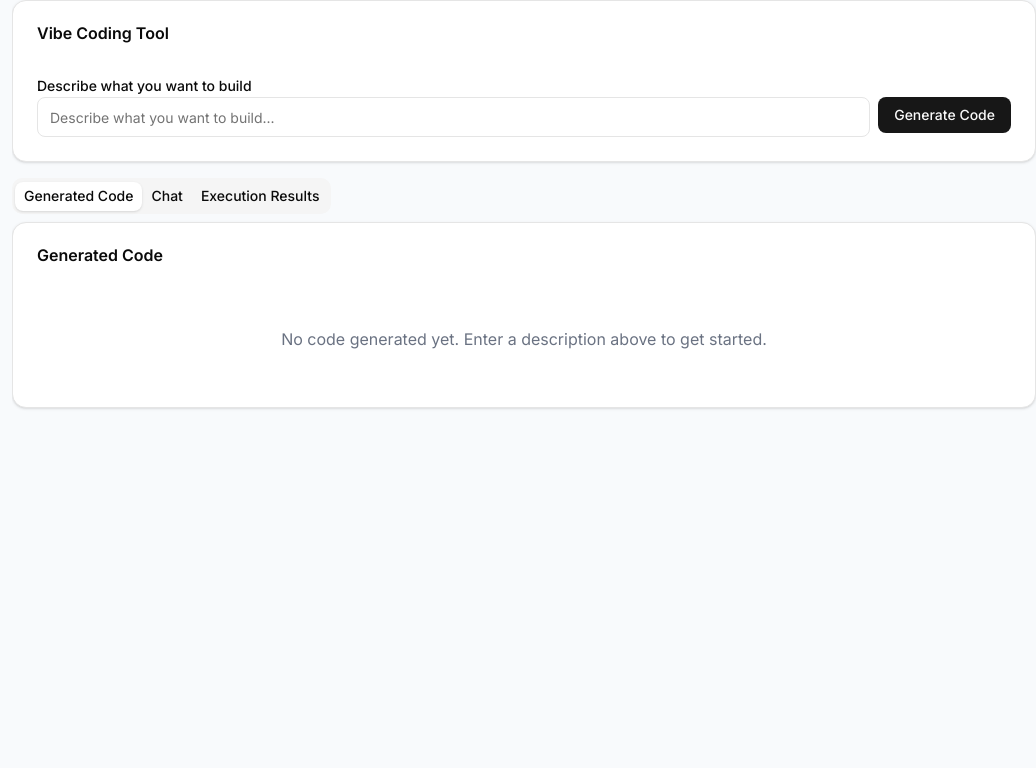
Test case: VibeCodingTool › Code Execution › should show execution metrics
Type "Create a time delay" into the field with placeholder "Describe what you want to build..." at (454, 117), box [37,97,870,137]
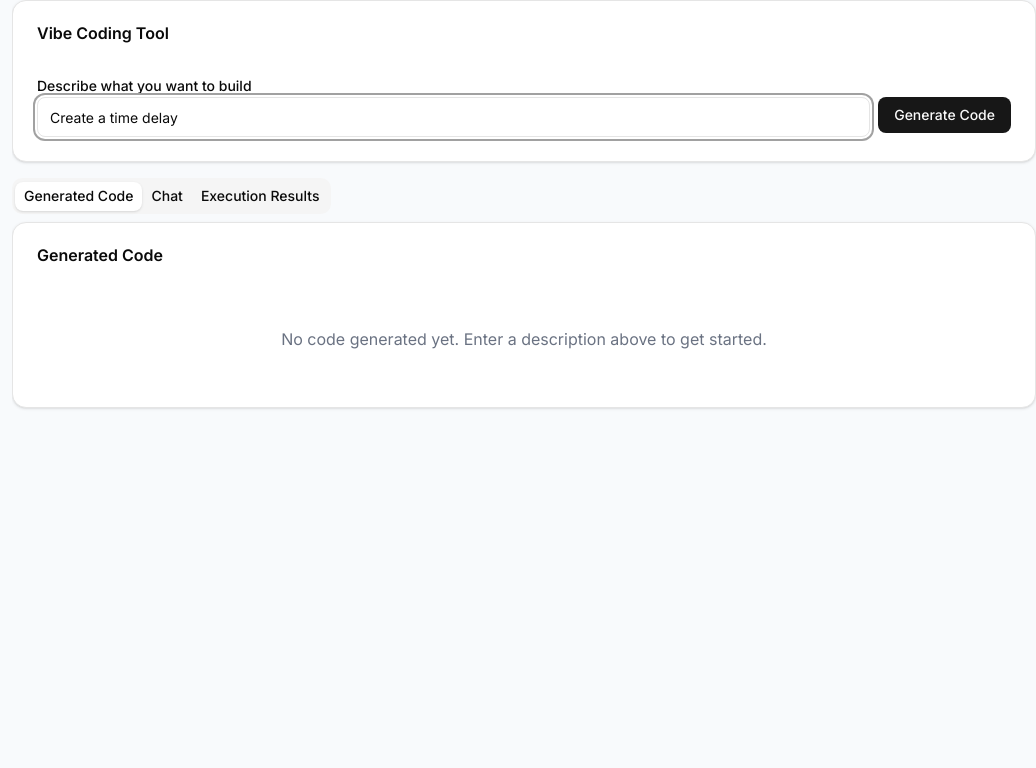
Click the button "Generate Code" at (945, 115), box [878,97,1011,133]
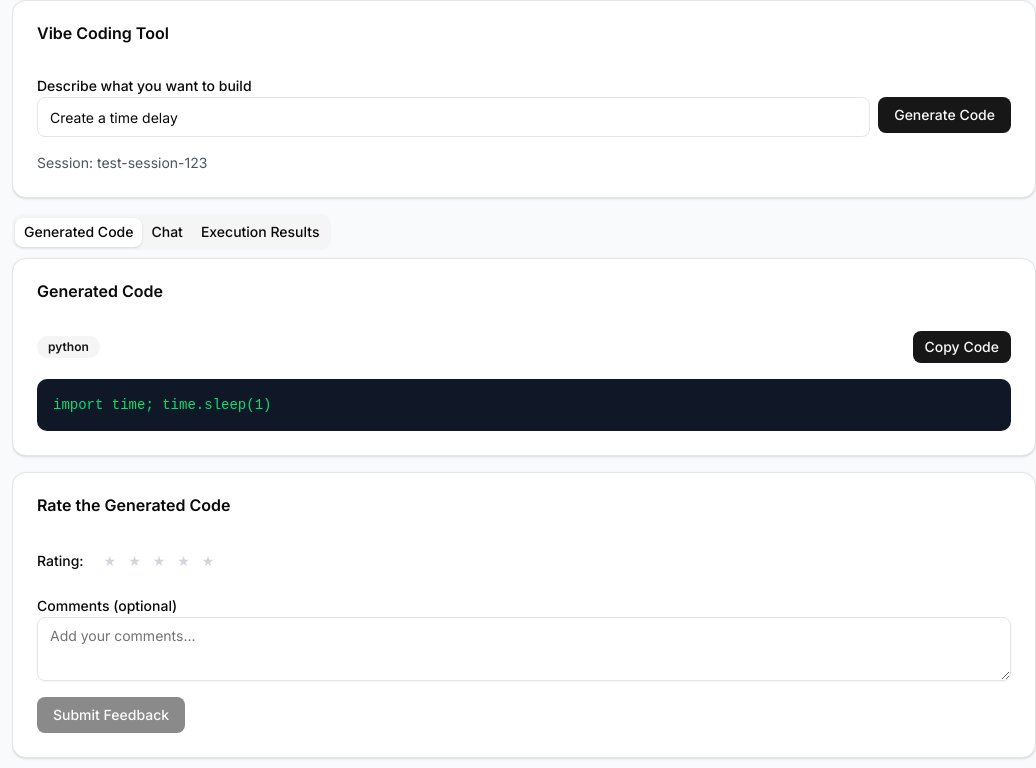
Result: the element with test id "code-editor" is shown at [37,379,1011,431]
// Click on the results tab to see execution results
Click the tab "Execution Results" at (260, 232), box [192,218,328,246]
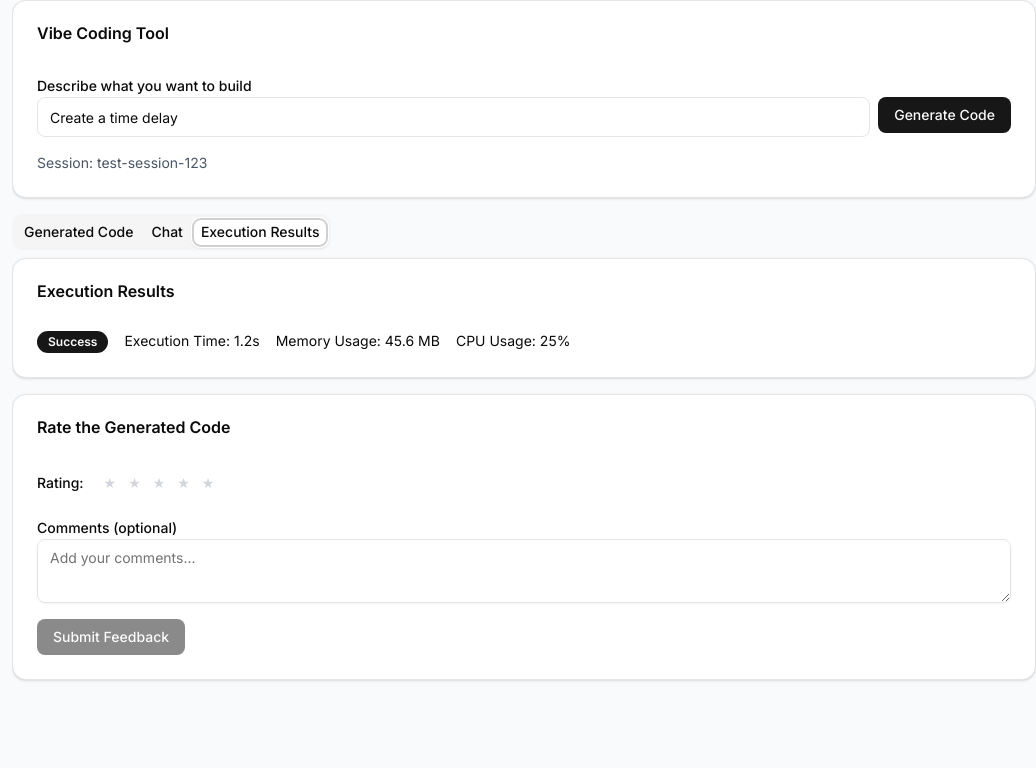
Result: the text "Memory Usage: 45.6 MB" is shown at [276,331,440,353]
